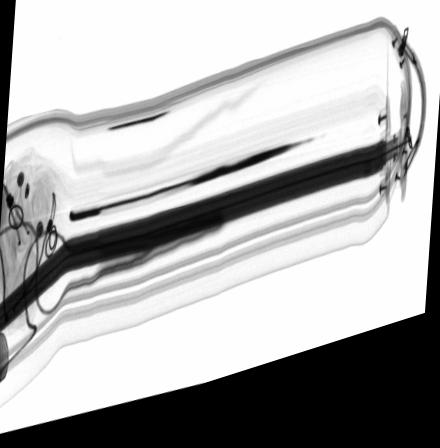Gun: (65, 201, 102, 230)
